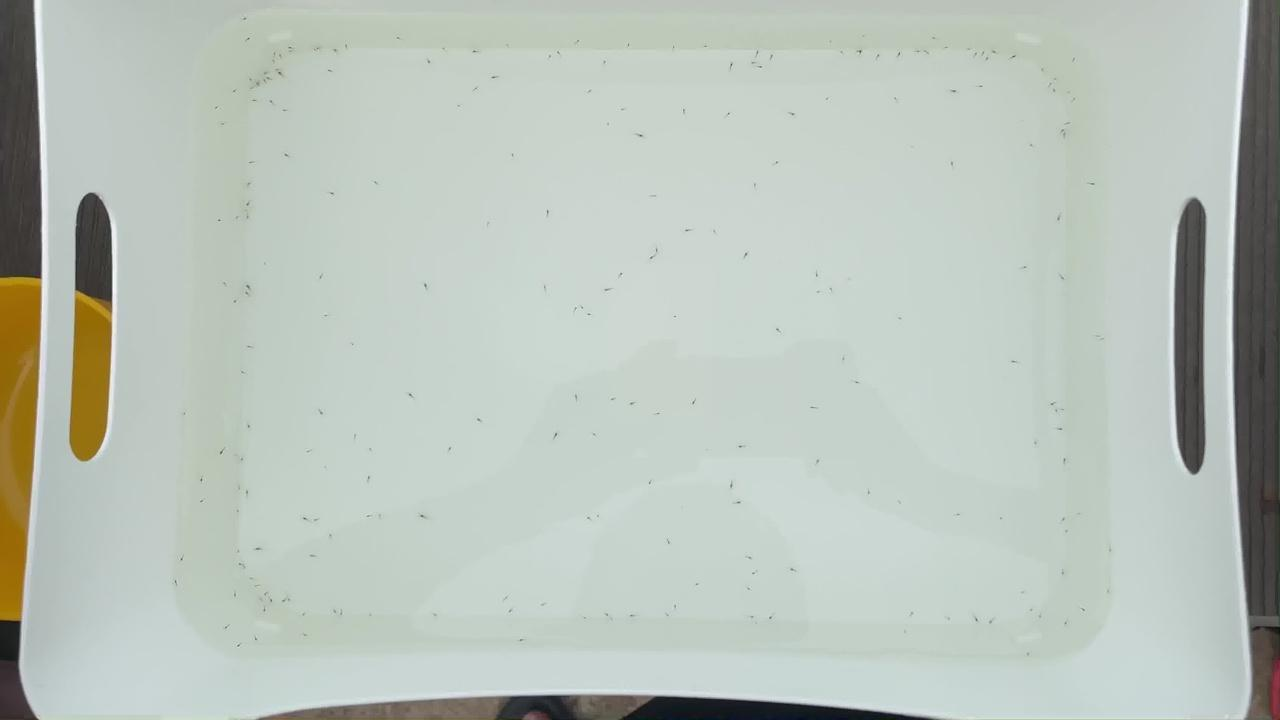shrimp: (1060, 456, 1073, 464), (1056, 274, 1069, 282), (1019, 262, 1032, 270), (1052, 213, 1065, 221), (1026, 146, 1039, 154), (1068, 96, 1081, 104), (988, 46, 1001, 54), (982, 57, 995, 65), (964, 46, 977, 54), (893, 52, 906, 60), (724, 63, 737, 71), (721, 107, 734, 115), (579, 617, 592, 625), (740, 251, 753, 259), (601, 285, 614, 293), (585, 312, 598, 320), (484, 218, 497, 226), (507, 152, 520, 160), (238, 13, 251, 21), (268, 52, 281, 60), (267, 96, 280, 104), (278, 152, 291, 160), (241, 179, 254, 187), (243, 201, 256, 209), (221, 279, 234, 287), (238, 373, 251, 381), (177, 412, 190, 420), (417, 511, 430, 519), (308, 550, 321, 558), (253, 545, 266, 553), (264, 595, 277, 603), (283, 594, 296, 602), (234, 639, 247, 647), (365, 611, 378, 619), (1060, 526, 1072, 534), (1055, 512, 1067, 520), (1074, 513, 1086, 521), (1107, 544, 1119, 552), (1104, 586, 1116, 594), (1078, 609, 1090, 617), (1058, 568, 1070, 576), (1061, 622, 1073, 630), (1038, 612, 1050, 620), (1025, 609, 1037, 617), (1016, 585, 1028, 593), (997, 512, 1009, 520), (953, 512, 965, 520), (987, 619, 999, 627), (971, 616, 983, 624), (943, 616, 955, 624), (912, 609, 924, 617), (900, 629, 912, 637), (1025, 650, 1037, 658), (751, 52, 763, 60), (828, 284, 840, 292), (850, 379, 862, 387), (646, 478, 658, 486), (541, 285, 553, 293), (247, 74, 259, 82), (236, 484, 248, 492), (1029, 436, 1042, 443), (1056, 406, 1069, 413), (1047, 399, 1060, 406), (1011, 358, 1024, 365), (1094, 334, 1107, 341), (1062, 118, 1075, 125), (1043, 83, 1056, 90), (1052, 78, 1065, 85), (1067, 55, 1080, 62), (1035, 66, 1048, 73), (1006, 53, 1019, 60), (978, 51, 991, 58), (968, 52, 981, 59), (975, 81, 988, 88), (945, 85, 958, 92), (941, 40, 954, 47), (928, 35, 941, 42), (920, 50, 933, 57), (913, 50, 926, 57), (873, 53, 886, 60), (854, 49, 867, 56), (858, 35, 871, 42), (838, 49, 851, 56), (826, 40, 839, 47), (823, 95, 836, 102), (890, 96, 903, 103), (947, 161, 960, 168), (786, 113, 799, 120), (769, 52, 782, 59), (753, 63, 766, 70), (747, 62, 760, 69), (701, 42, 714, 49), (649, 45, 662, 52), (625, 41, 638, 48), (598, 59, 611, 66), (572, 41, 585, 48), (553, 48, 566, 55), (585, 86, 598, 93), (619, 104, 632, 111), (632, 134, 645, 141), (680, 109, 693, 116), (773, 159, 786, 166), (750, 184, 763, 191), (810, 269, 823, 276), (813, 289, 826, 296), (893, 316, 906, 323), (865, 489, 878, 496), (930, 505, 943, 512), (816, 459, 829, 466), (838, 354, 851, 361), (774, 327, 787, 334), (750, 420, 763, 427), (736, 445, 749, 452), (727, 483, 740, 490), (733, 497, 746, 504), (742, 556, 755, 563), (747, 572, 760, 579), (787, 569, 800, 576), (763, 615, 776, 622), (745, 615, 758, 622), (745, 587, 758, 594), (691, 580, 704, 587), (671, 603, 684, 610), (661, 612, 674, 619), (507, 611, 520, 618), (537, 602, 550, 609), (582, 517, 595, 524), (593, 511, 606, 518), (653, 410, 666, 417), (690, 397, 703, 404), (710, 228, 723, 235), (683, 228, 696, 235), (646, 194, 659, 201), (651, 246, 664, 253), (647, 252, 660, 259), (615, 272, 628, 279), (577, 305, 590, 312), (569, 306, 582, 313), (541, 209, 554, 216), (471, 84, 484, 91), (488, 72, 501, 79), (469, 47, 482, 54), (439, 42, 452, 49), (423, 57, 436, 64), (391, 35, 404, 42), (342, 45, 355, 52), (330, 47, 343, 54), (312, 44, 325, 51), (328, 68, 341, 75), (270, 45, 283, 52), (276, 50, 289, 57), (283, 41, 296, 48), (273, 67, 286, 74), (261, 66, 274, 73), (266, 74, 279, 81), (259, 76, 272, 83), (253, 78, 266, 85), (247, 81, 260, 88), (250, 96, 263, 103), (277, 105, 290, 112), (210, 105, 223, 112), (231, 90, 244, 97), (244, 154, 257, 161), (372, 161, 385, 168), (372, 180, 385, 187), (325, 192, 338, 199), (243, 214, 256, 221), (232, 214, 245, 221), (214, 216, 227, 223), (229, 297, 242, 304), (243, 283, 256, 290), (241, 293, 254, 300), (316, 276, 329, 283), (259, 256, 272, 263), (422, 282, 435, 289), (404, 390, 417, 397), (316, 407, 329, 414), (340, 338, 353, 345), (175, 556, 188, 563), (169, 580, 182, 587), (586, 431, 599, 438), (607, 395, 620, 402), (628, 403, 641, 410), (569, 391, 582, 398), (473, 417, 486, 424), (375, 516, 388, 523), (360, 510, 373, 517), (362, 474, 375, 481), (363, 446, 376, 453), (348, 433, 361, 440), (319, 465, 332, 472), (302, 449, 315, 456), (244, 419, 257, 426), (236, 455, 249, 462), (215, 449, 228, 456), (243, 489, 256, 496), (231, 507, 244, 514), (196, 475, 209, 482), (297, 514, 310, 521), (325, 530, 338, 537), (232, 543, 245, 550), (233, 561, 246, 568), (237, 560, 250, 567), (248, 575, 261, 582), (262, 588, 275, 595), (254, 592, 267, 599), (260, 603, 273, 610), (277, 598, 290, 605), (230, 590, 243, 597), (221, 624, 234, 631), (300, 632, 313, 639), (298, 611, 311, 618), (328, 608, 341, 615), (430, 611, 443, 618), (845, 272, 858, 279), (1056, 425, 1068, 432), (1050, 410, 1062, 417), (1089, 182, 1101, 189), (1061, 132, 1073, 139), (1056, 127, 1068, 134), (1050, 86, 1062, 93), (668, 44, 680, 51), (546, 52, 558, 59), (601, 124, 613, 131), (895, 499, 907, 506), (806, 403, 818, 410), (624, 613, 636, 620), (601, 613, 613, 620), (518, 638, 530, 645), (501, 599, 513, 606), (662, 537, 674, 544), (502, 44, 514, 51), (241, 33, 253, 40), (219, 116, 231, 123), (485, 373, 497, 380), (247, 342, 259, 349), (552, 432, 564, 439), (446, 444, 458, 451), (197, 494, 209, 501), (308, 517, 320, 524), (253, 583, 265, 590), (252, 635, 264, 642), (336, 608, 348, 615)
